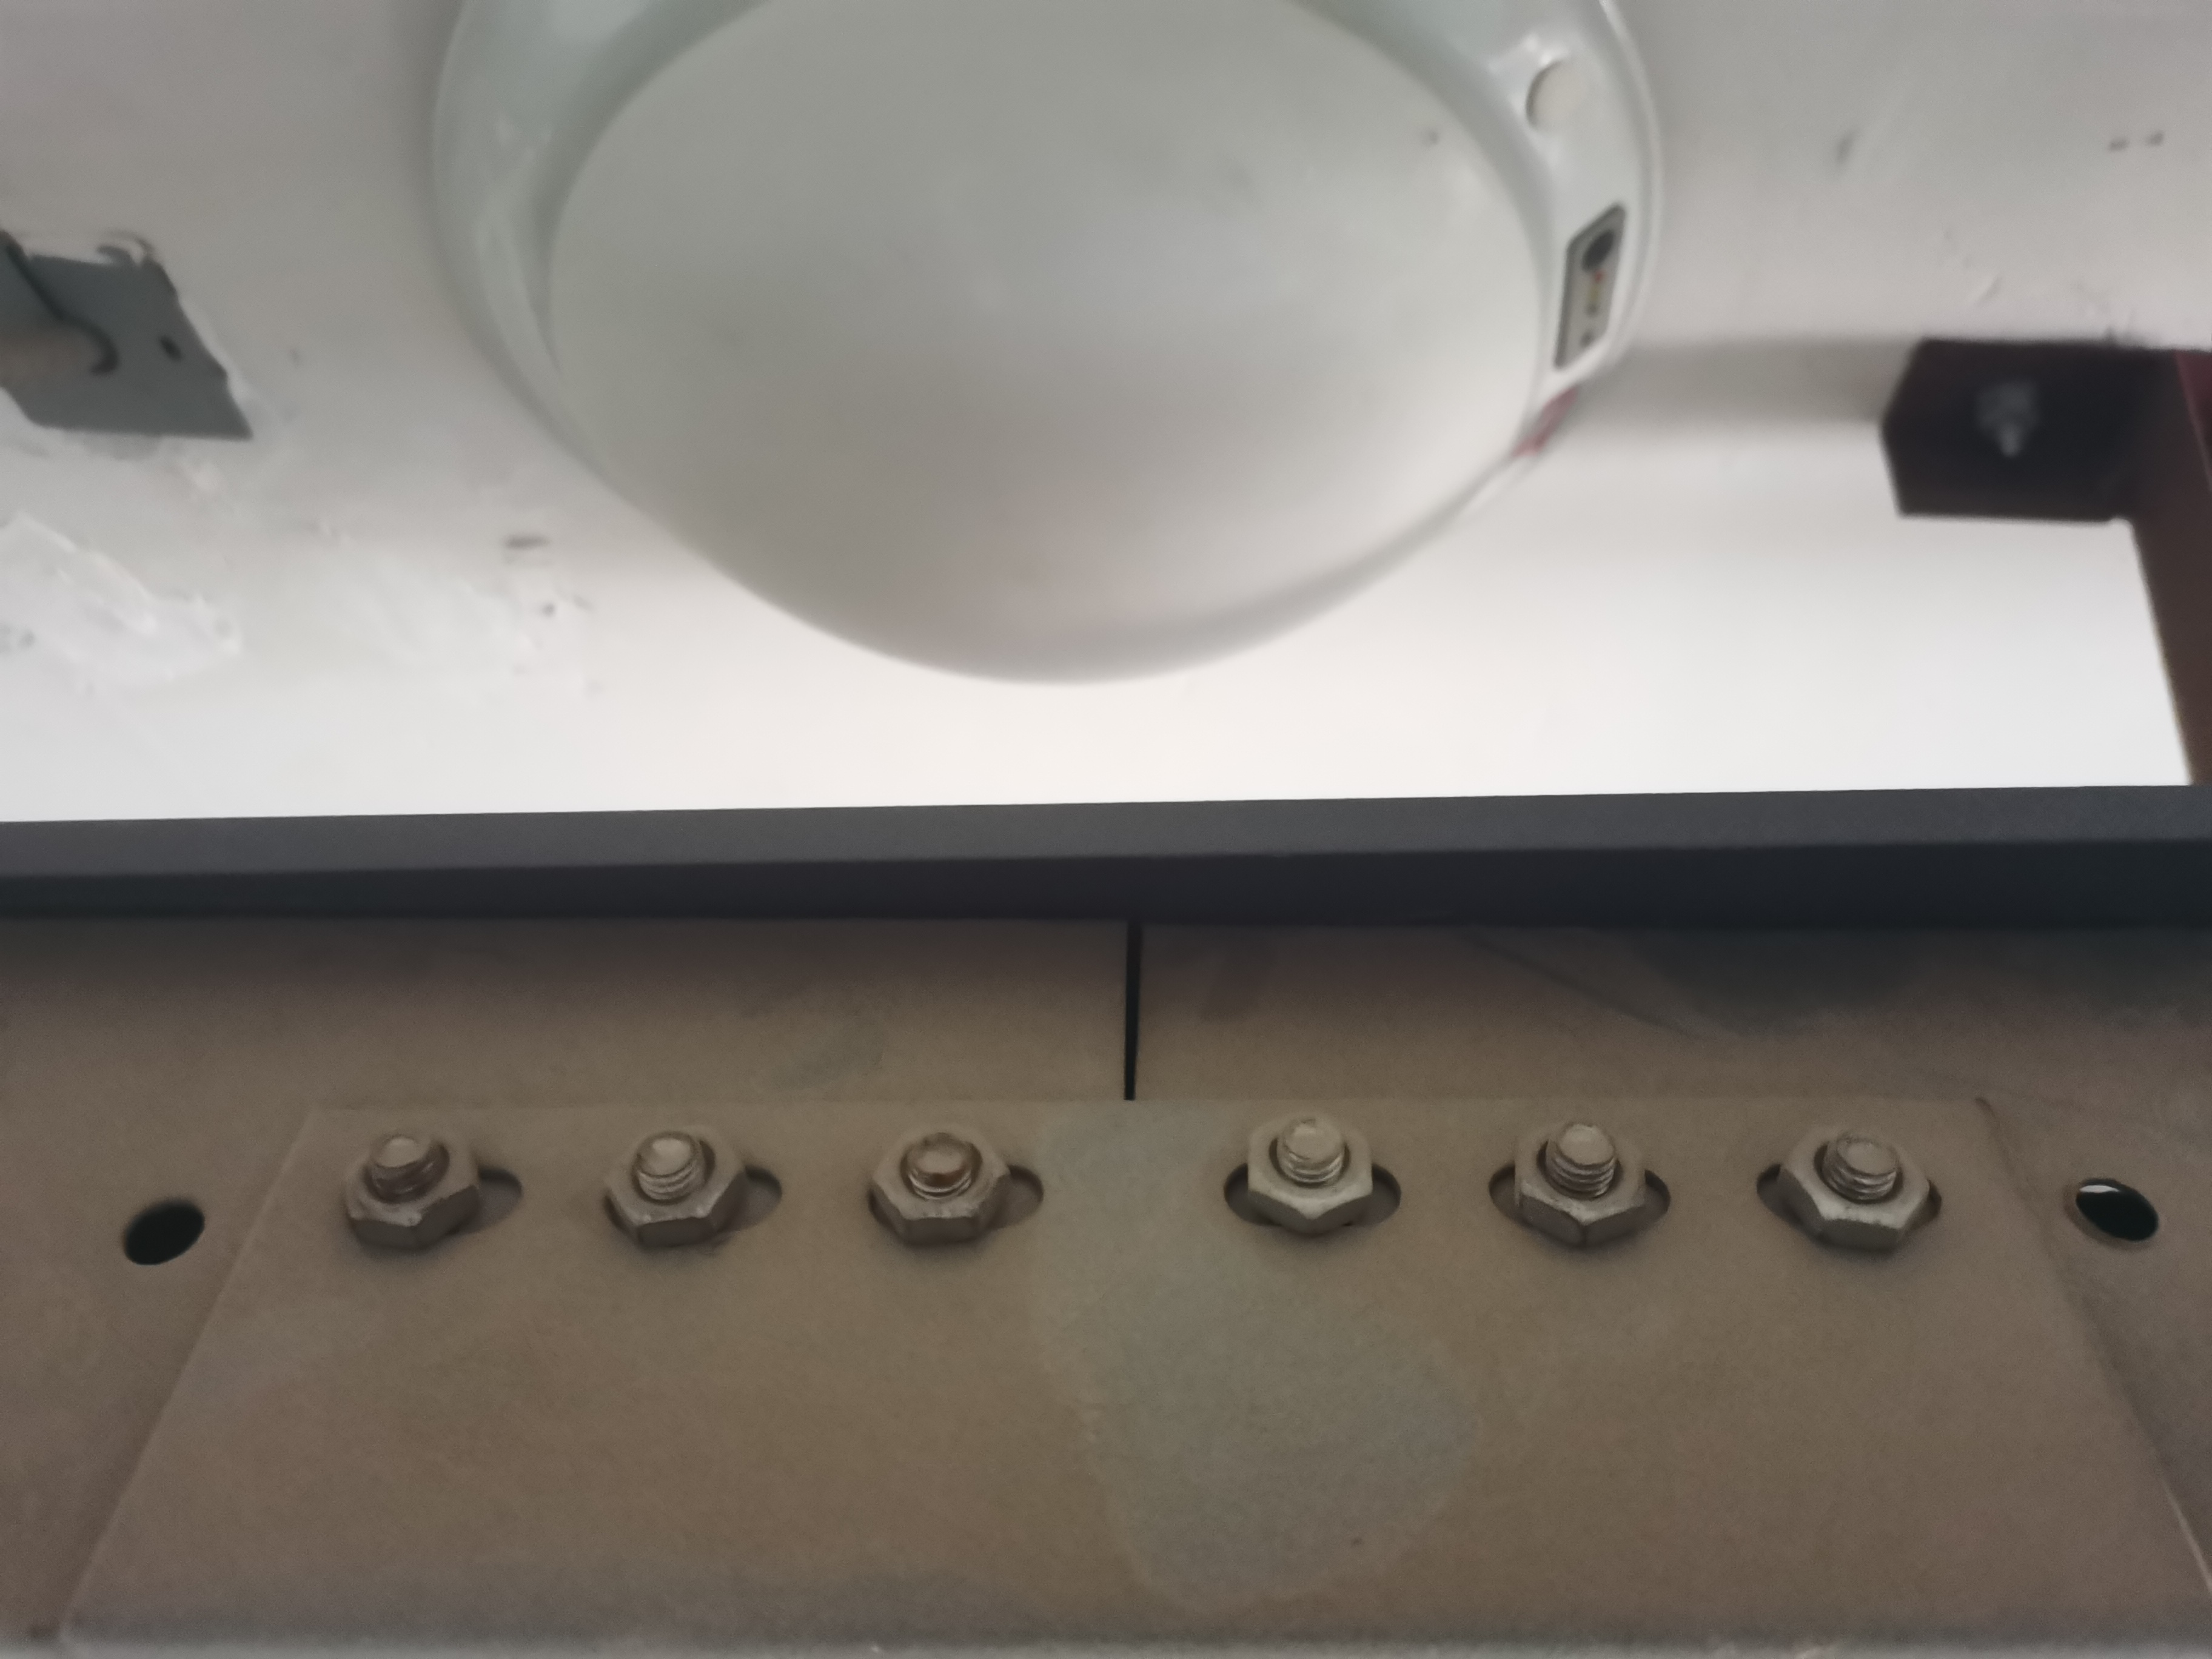bolt_b: (1768, 1110, 1937, 1258), (860, 1110, 1019, 1255), (1503, 1110, 1653, 1256), (338, 1119, 489, 1258), (599, 1121, 751, 1255), (1238, 1103, 1379, 1246)
